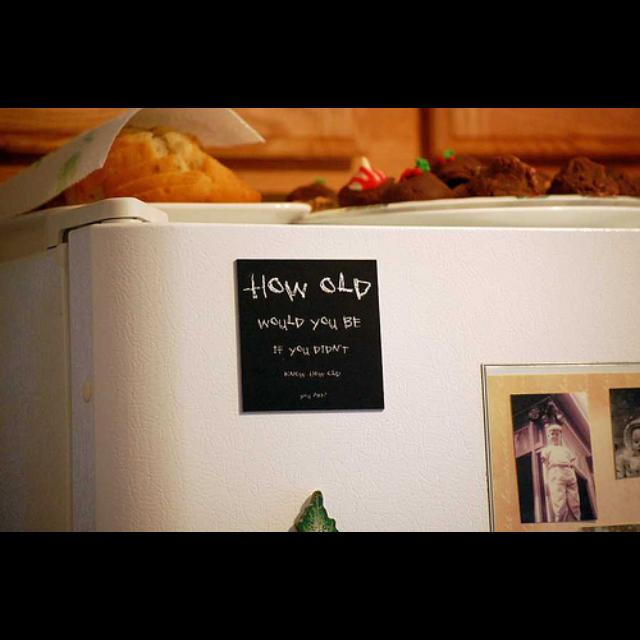Refrigerator: (1, 195, 639, 527)
